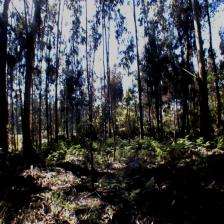trunktrack_idkeyframe: (196, 44, 212, 140), (23, 42, 35, 156), (137, 60, 144, 140), (180, 97, 188, 138), (215, 82, 221, 124)
